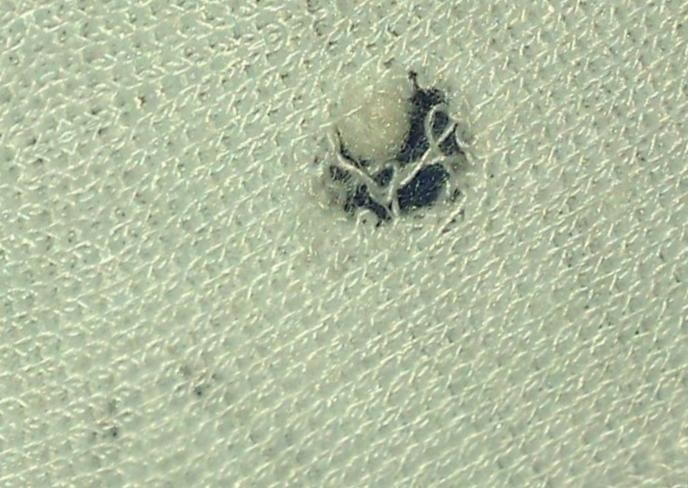hole: (315, 59, 474, 179)
